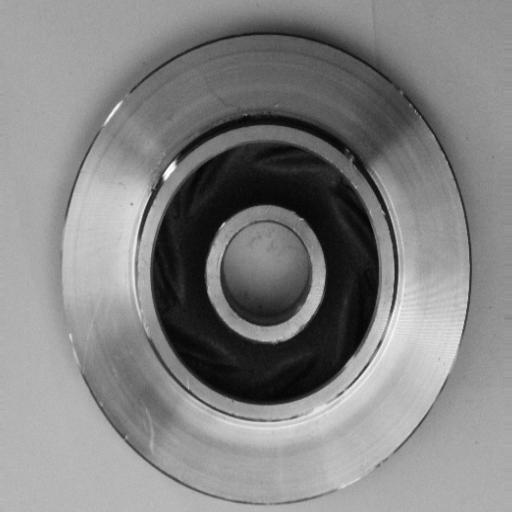scratch: (144, 139, 198, 201)
unpolished_casting: (57, 29, 475, 509)
